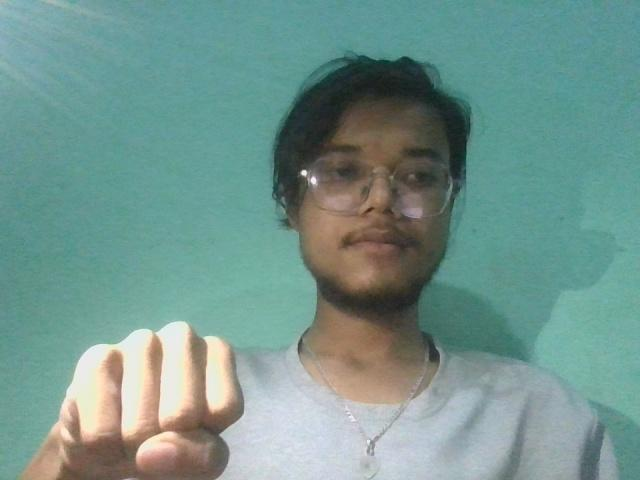Yes: (39, 312, 257, 479)
